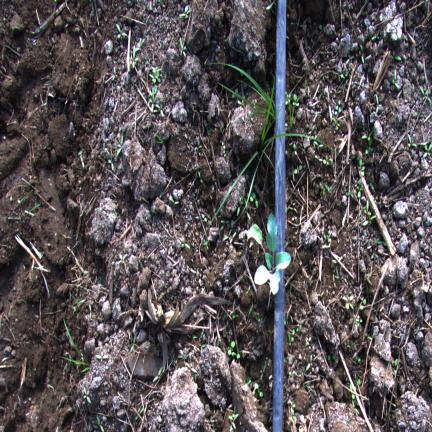crop: (254, 214, 290, 295), (247, 225, 262, 244)
